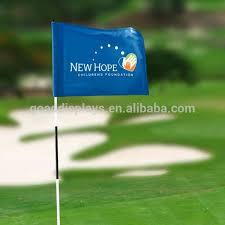Flag: (51, 19, 149, 97)
